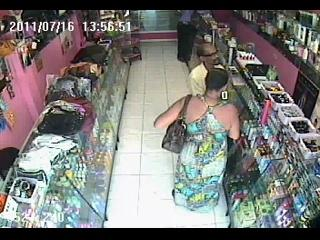Normal: (154, 68, 242, 216), (188, 43, 222, 96), (162, 95, 192, 154), (177, 10, 200, 68), (121, 46, 142, 66)
